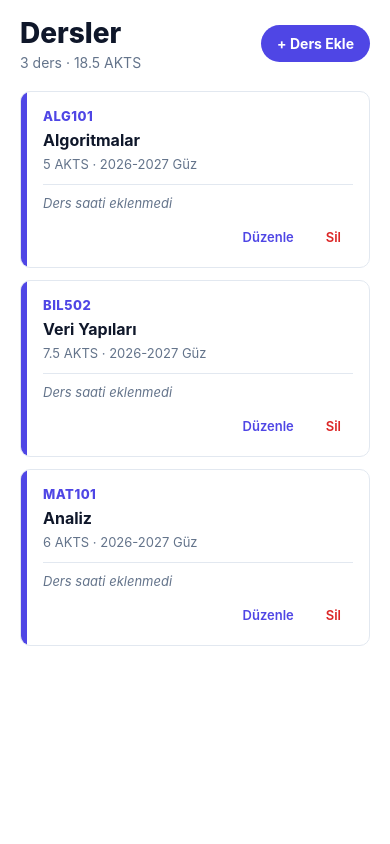
Test case: CoursesScreen › onaydan sonra dersi siler
Click the text "Sil" below "Algoritmalar".
click(333, 237)  # box [326,229,341,245]
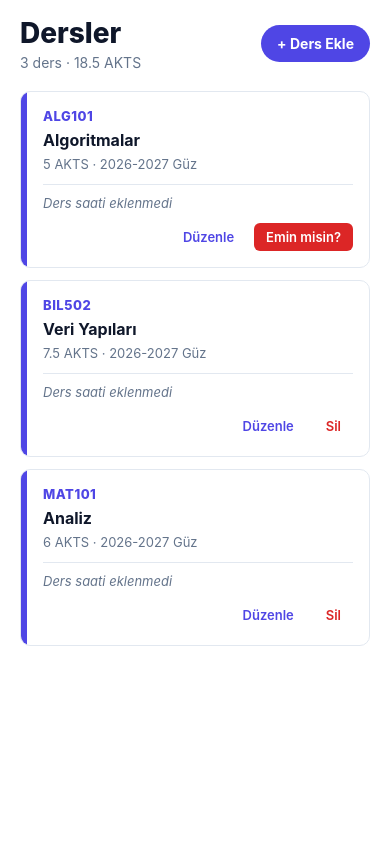
Click the text "Emin misin?".
click(304, 237)  # box [266,229,341,245]
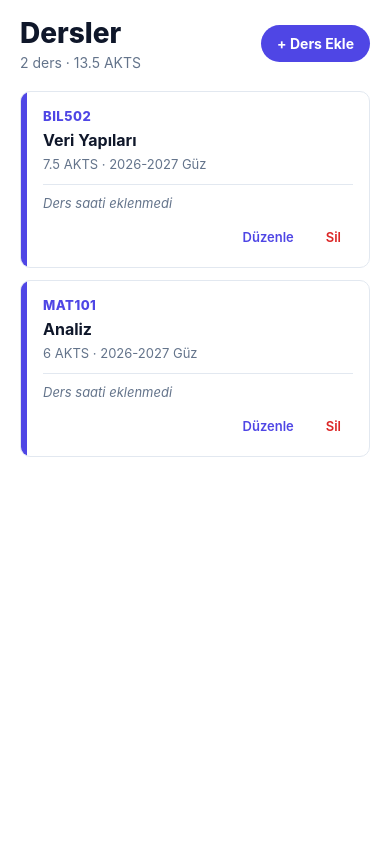
Check: the text "2 ders · 13.5 AKTS" is shown, box [20,54,141,71]
